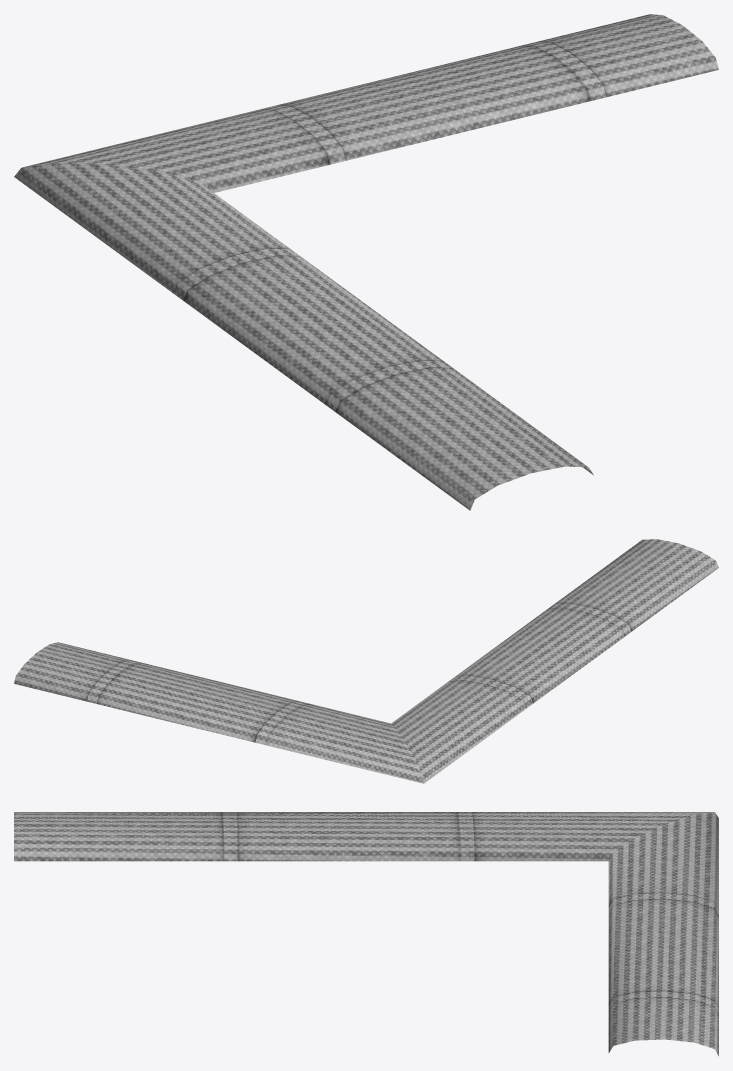
File: Techo.fbx
3 renders of one model, top to bottom at view 1: azimuth 30°, elevation 25°; view 2: azimuth 150°, elevation 25°; view 3: azimuth 270°, elevation 25°, orthographic. The views are drawn at different scales.
Visible parts, largest first — view 1: pCylinder1; view 2: pCylinder1; view 3: pCylinder1.
Boxes of the visible parts, x1,y1,x2,y2 form: pCylinder1: (14, 14, 718, 510); pCylinder1: (14, 539, 718, 783); pCylinder1: (14, 812, 718, 1056).
Size of the model in its own units: 88.85 by 3.04 by 111.
